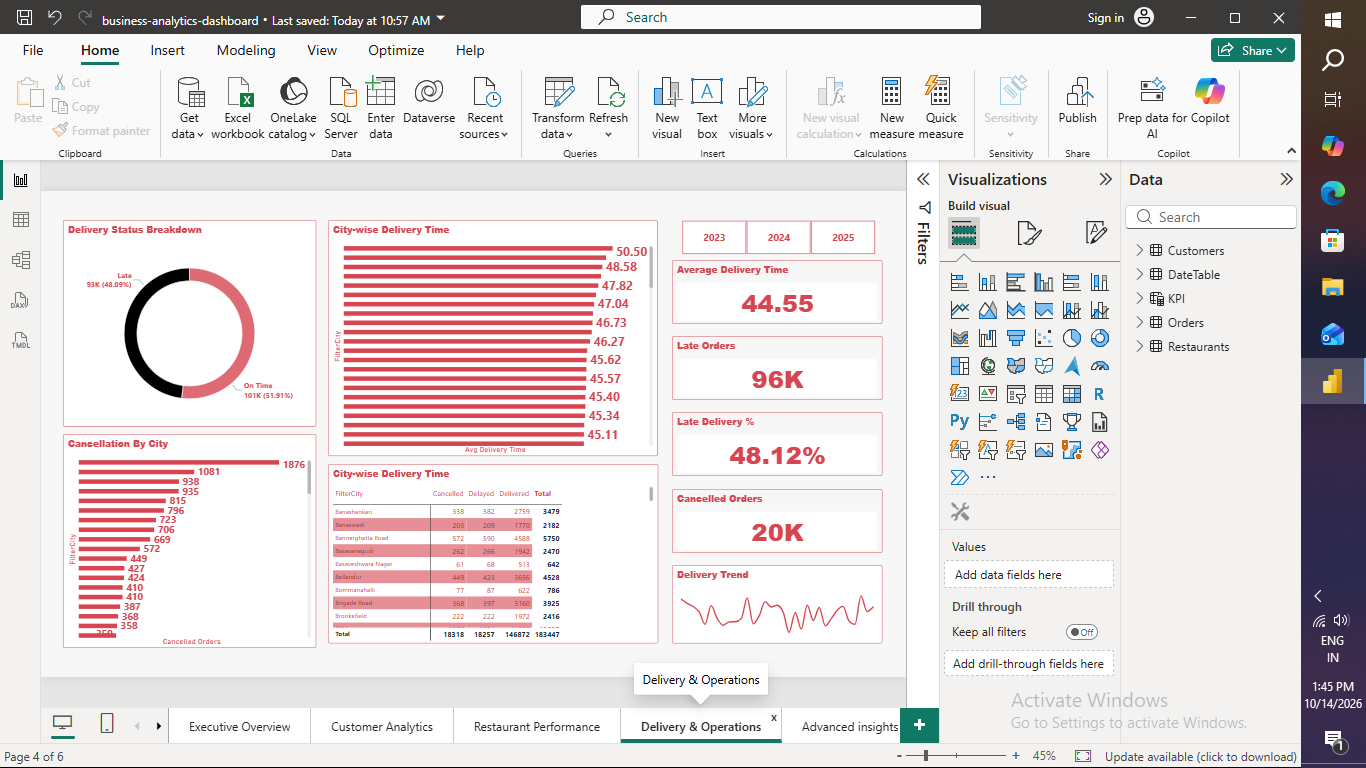

Layout of this report page (visuals, bound fields, positions):
{"tool":"powerbi","page":{"name":"Delivery & Operations","canvas":[1920,1080],"ordinal":3},"visuals":[{"type":"cardVisual","title":"Average Delivery Time","fields":{"Data":["Orders.Avg Delivery Time"]},"box":[1400,153,467.4,141.9],"z":0},{"type":"cardVisual","title":"Late Orders","fields":{"Data":["Orders.Late Orders"]},"box":[1400,322.3,467.4,141.9],"z":1000},{"type":"cardVisual","title":"Late Delivery %","fields":{"Data":["Orders.Late Delivery %"]},"box":[1400,491.6,467.4,141.9],"z":2000},{"type":"cardVisual","title":"Cancelled Orders","fields":{"Data":["Orders.Cancelled Orders"]},"box":[1400,660.9,467.4,141.9],"z":3000},{"type":"lineChart","title":"Delivery Trend","fields":{"Category":["DateTable.Date.Variation.Date Hierarchy.Year","DateTable.Date.Variation.Date Hierarchy.Month"],"Y":["Orders.Avg Delivery Time"]},"box":[1400,830.2,467.4,174.4],"z":4000},{"type":"barChart","title":"City-wise Delivery Time","fields":{"Category":["Customers.FilterCity"],"Y":["Orders.Avg Delivery Time"]},"box":[637,64.4,732.5,523.8],"z":5000},{"type":"donutChart","title":"Delivery Status Breakdown","fields":{"Category":["Orders.Delivery Status"],"Y":["Orders.Total Orders"]},"box":[48.8,64.4,561.6,459.5],"z":6000},{"type":"barChart","title":"Cancellation By City","fields":{"Category":["Customers.FilterCity"],"Y":["Orders.Cancelled Orders"]},"box":[48.8,539.4,561.6,475],"z":7000},{"type":"pivotTable","title":"City-wise Delivery Time","fields":{"Columns":["Orders.OrderStatus"],"Rows":["Customers.FilterCity"],"Values":["Orders.Total Orders"]},"box":[637.2,607,732.6,397.7],"z":8000},{"type":"slicer","fields":{"Values":["DateTable.Date.Variation.Date Hierarchy.Year"]},"box":[1402.8,64.4,467.4,76.7],"z":8001}]}

Visuals, with their boxes on the page's 1920x1080 design canvas (x1, y1, x2, y2). These are canvas units, not pixel positions in the 1366x768 screenshot, which may show the page scaled, cropped or inside an application window:
"Average Delivery Time" cardVisual: {"left": 1400, "top": 153, "right": 1867, "bottom": 295}
"Late Orders" cardVisual: {"left": 1400, "top": 322, "right": 1867, "bottom": 464}
"Late Delivery %" cardVisual: {"left": 1400, "top": 492, "right": 1867, "bottom": 634}
"Cancelled Orders" cardVisual: {"left": 1400, "top": 661, "right": 1867, "bottom": 803}
"Delivery Trend" lineChart: {"left": 1400, "top": 830, "right": 1867, "bottom": 1005}
"City-wise Delivery Time" barChart: {"left": 637, "top": 64, "right": 1370, "bottom": 588}
"Delivery Status Breakdown" donutChart: {"left": 49, "top": 64, "right": 610, "bottom": 524}
"Cancellation By City" barChart: {"left": 49, "top": 539, "right": 610, "bottom": 1014}
"City-wise Delivery Time" pivotTable: {"left": 637, "top": 607, "right": 1370, "bottom": 1005}
slicer - DateTable.Date.Variation.Date Hierarchy.Year: {"left": 1403, "top": 64, "right": 1870, "bottom": 141}
